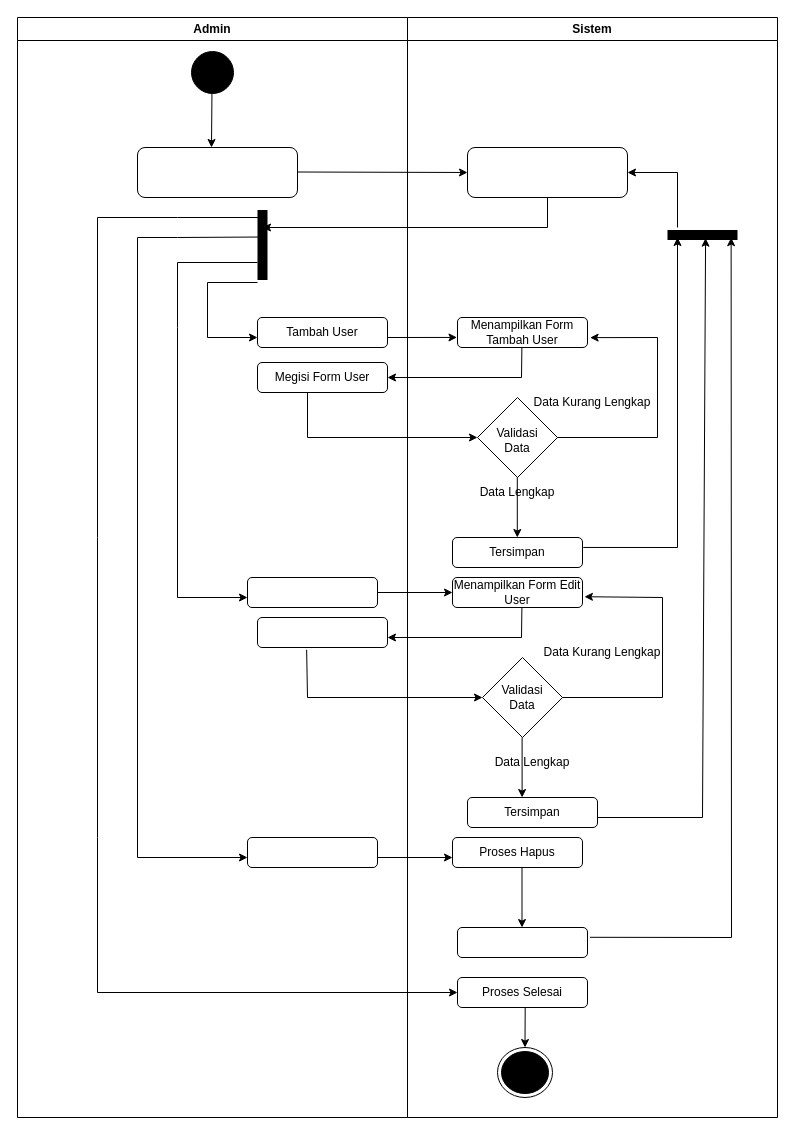
This 795x1135 diagram has some shape labels left out. The centre of each missing label's shape, as x and y in pixels:
Edit Data: [312,592]
Menampilkan Data Masyrakat: [547,172]
Menghapus User: [312,852]
Mengiisi Form User: [322,632]
Pengguna Memilih Data Masyarakat: [217,172]
Terhapus: [522,942]
